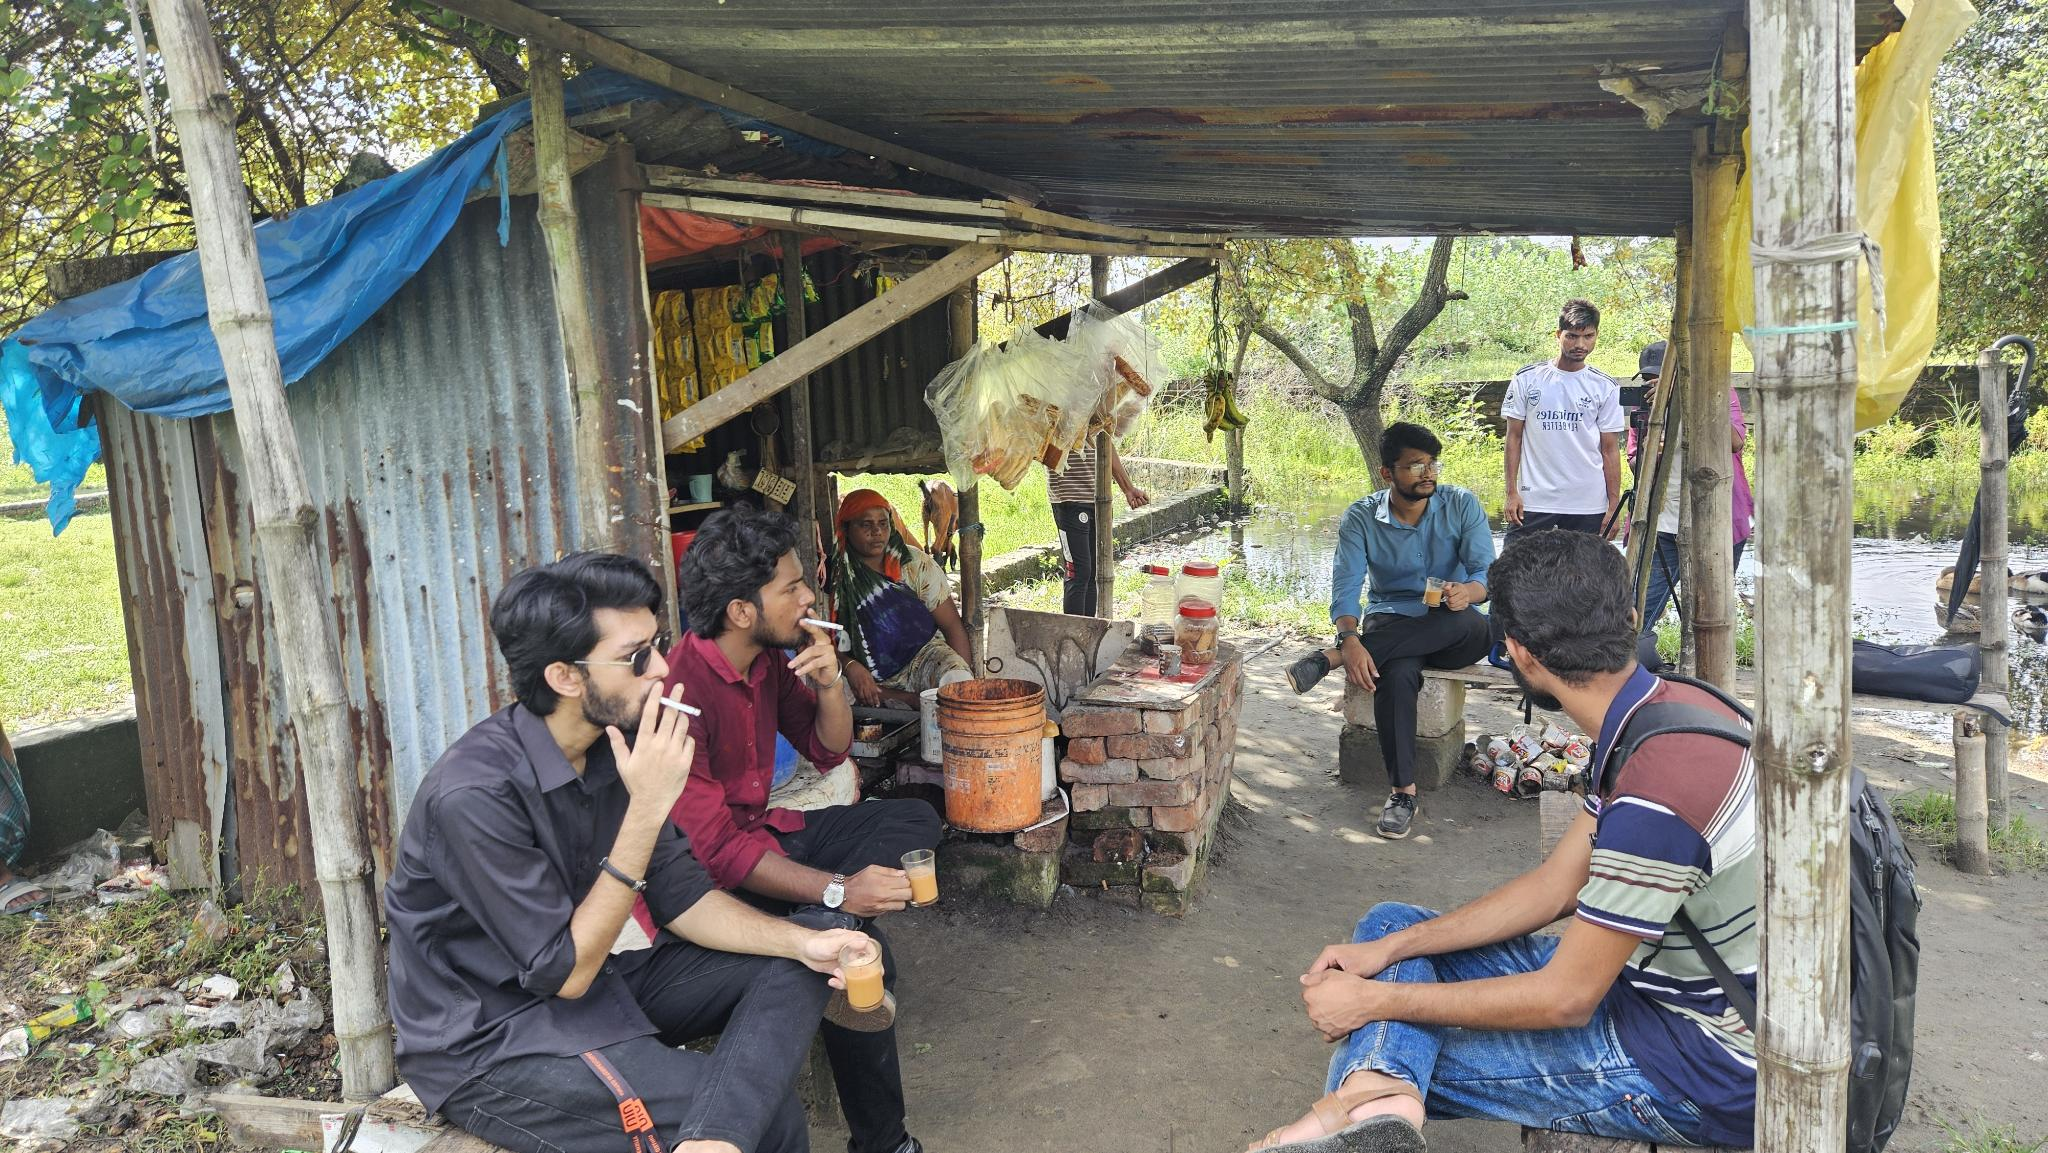cigarette: (654, 692, 703, 721), (799, 613, 848, 634)
nonSmoker: (1245, 530, 1764, 1153), (1287, 423, 1495, 841), (828, 494, 972, 709), (1492, 298, 1623, 533)
smoker: (381, 555, 865, 1153), (665, 524, 940, 928)
